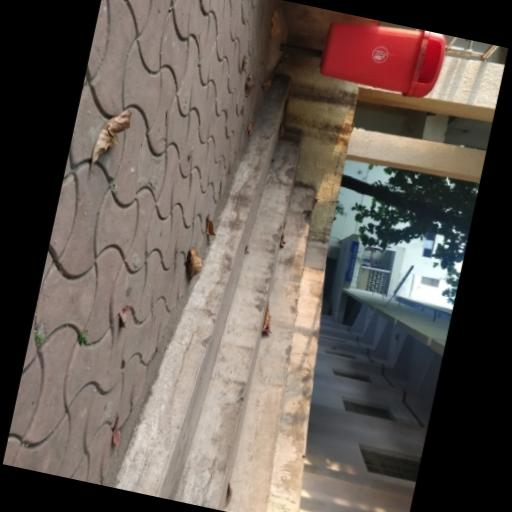stairs: (114, 75, 321, 511)
